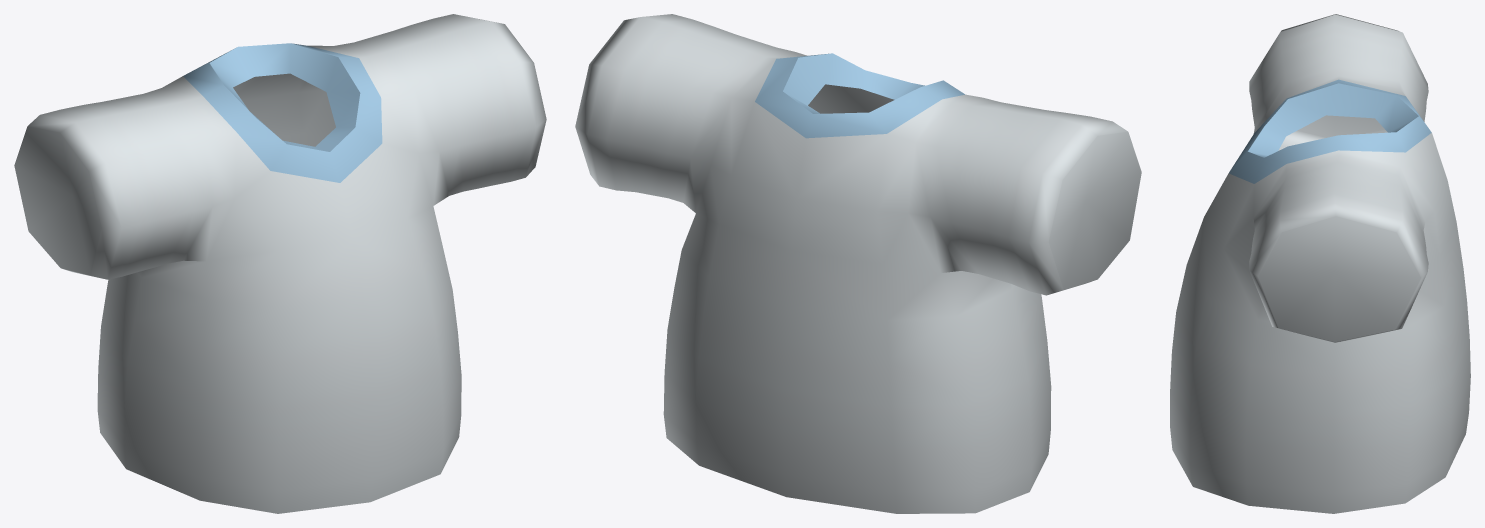
Rendered from Top_3.fbx.
The picture shows the model from 3 angles, left to right: view 1: azimuth 30°, elevation 25°; view 2: azimuth 150°, elevation 25°; view 3: azimuth 270°, elevation 25°; orthographic projection. The views are drawn at different scales.
Parts seen in each view (by area): view 1: Top_3; view 2: Top_3; view 3: Top_3.
Boxes of the visible parts, bbox=[...] form: Top_3: bbox=[14, 14, 546, 513]; Top_3: bbox=[575, 14, 1141, 513]; Top_3: bbox=[1170, 14, 1470, 513].
Size of the model in its own units: 58.02 by 45.64 by 36.49.
